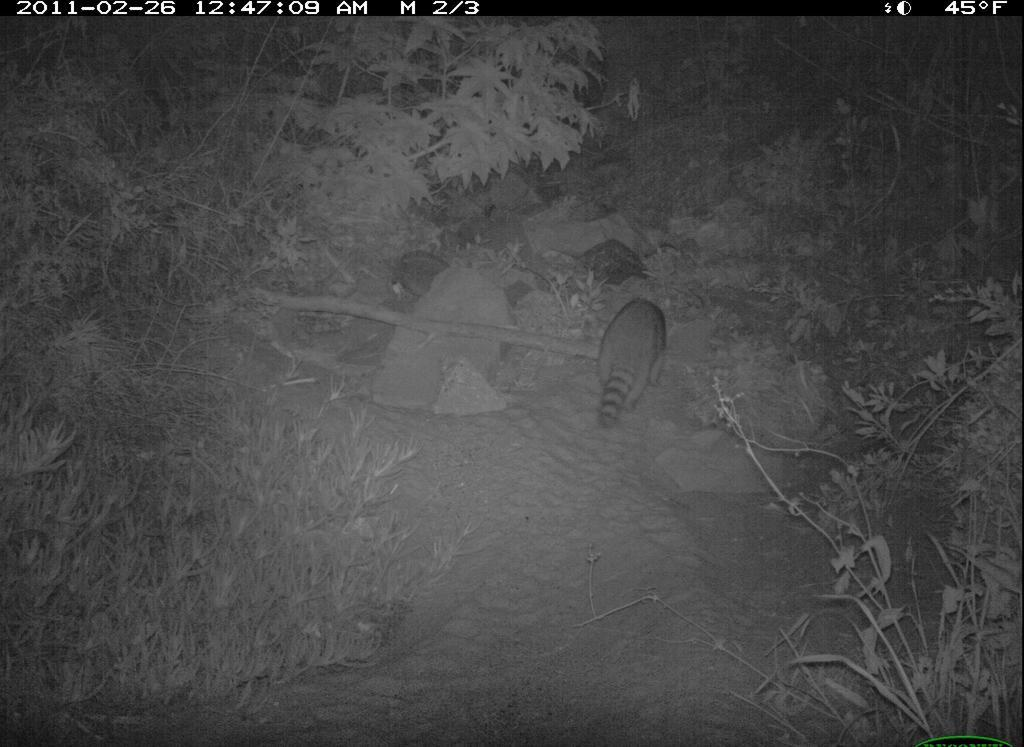raccoon: (585, 292, 674, 442)
